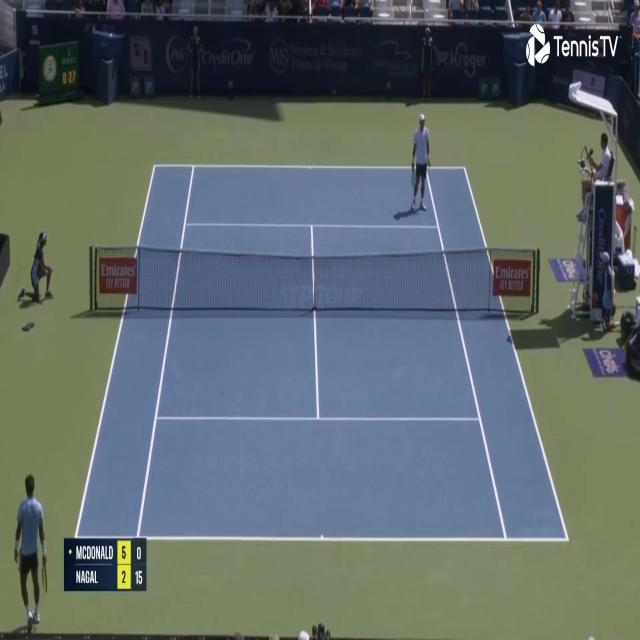tennis-player: (10, 469, 48, 632), (410, 111, 432, 214)
